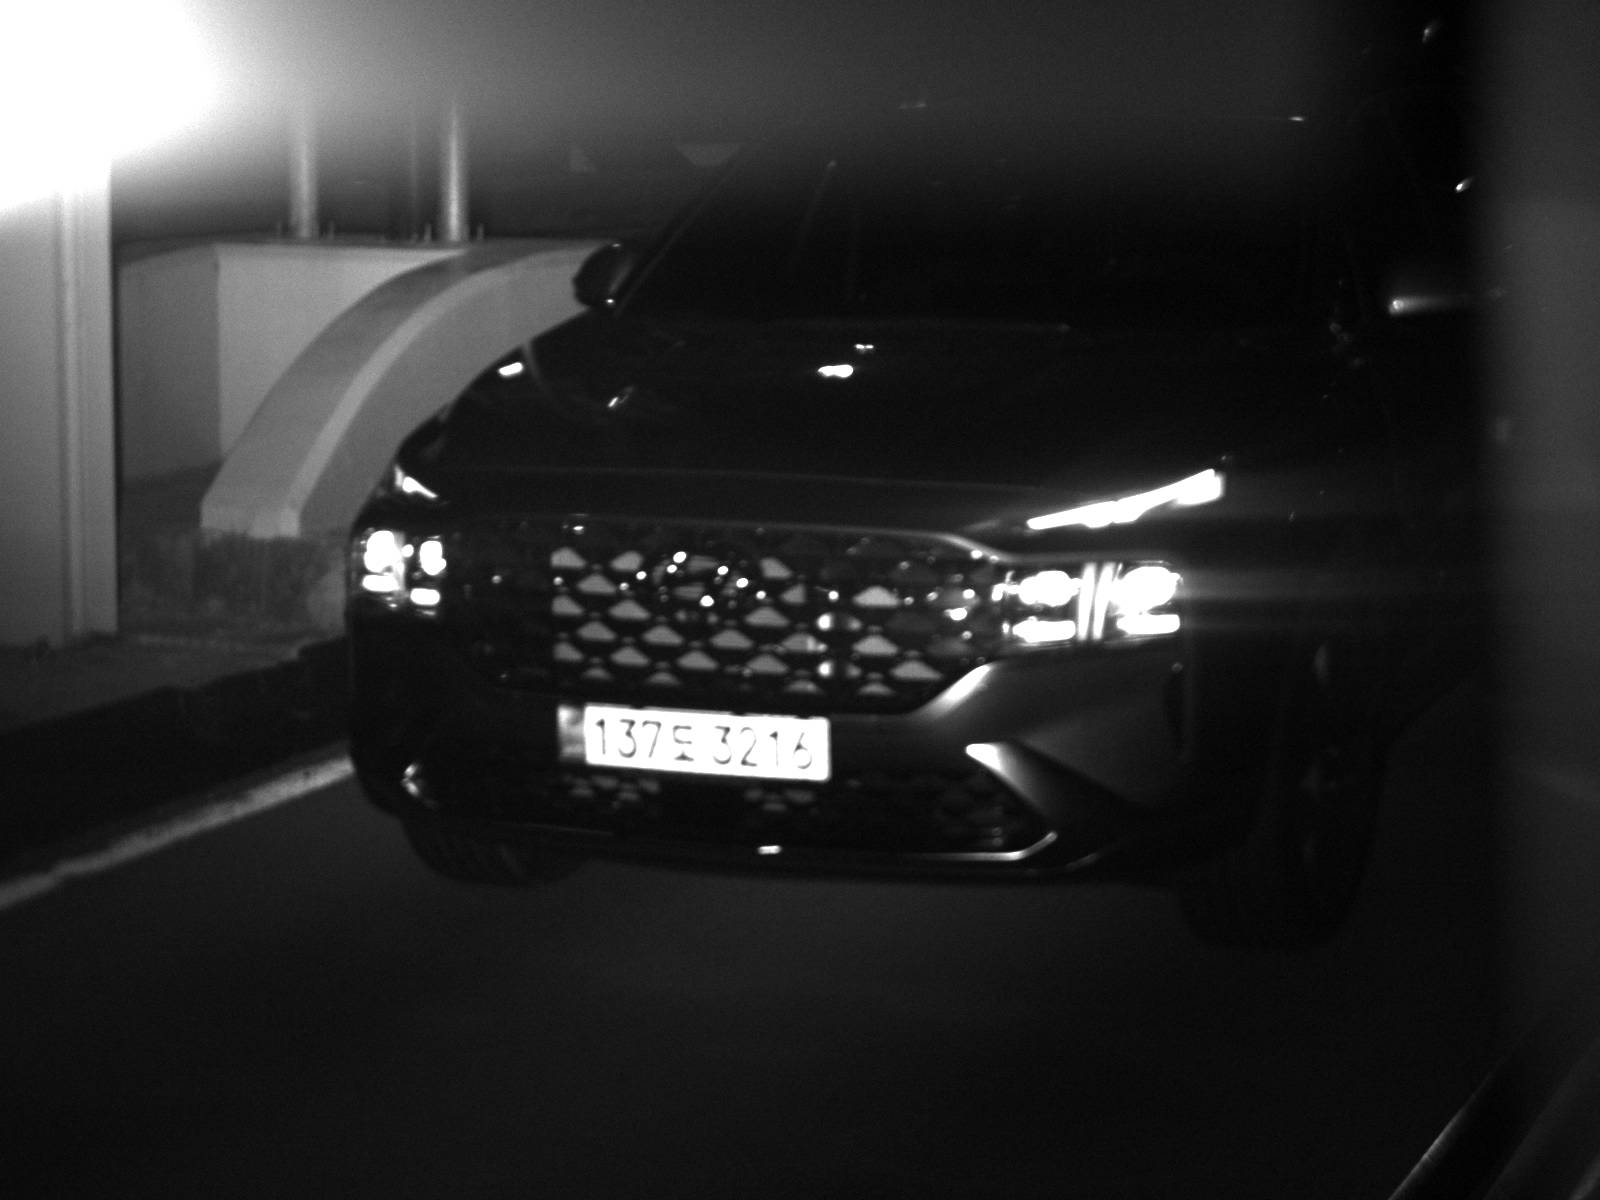car: (342, 77, 1592, 945)
plate: (547, 698, 839, 785)
